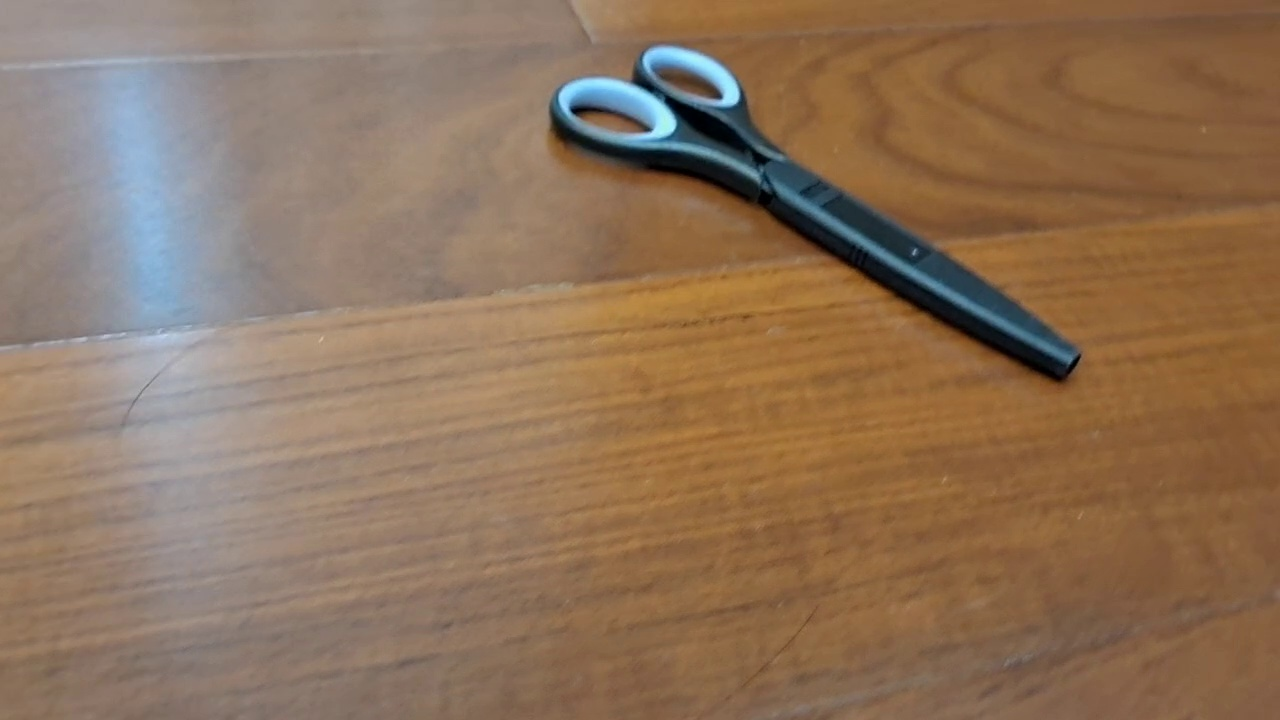scissors: (549, 42, 1083, 383)
